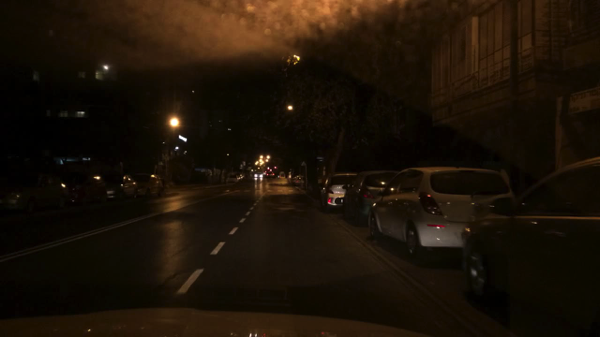car: (461, 155, 599, 327), (365, 166, 516, 260), (339, 169, 400, 226), (1, 176, 70, 214), (318, 172, 358, 212), (68, 171, 109, 206), (105, 172, 138, 200), (136, 172, 165, 199), (228, 174, 238, 183), (266, 171, 277, 179), (254, 171, 263, 179), (296, 176, 305, 184), (237, 174, 244, 180), (293, 176, 297, 182)
traffic light: (273, 165, 277, 170)
traffic sign: (301, 162, 306, 167)
